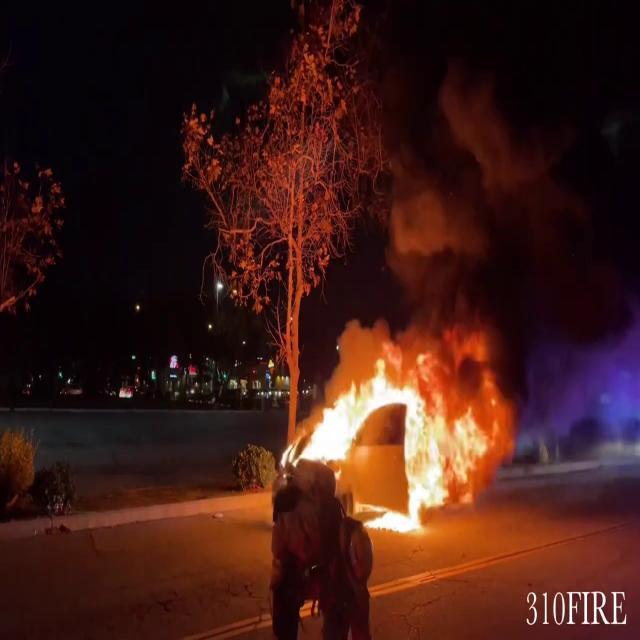Fire: (296, 344, 514, 530)
Smoke: (372, 1, 640, 387)
